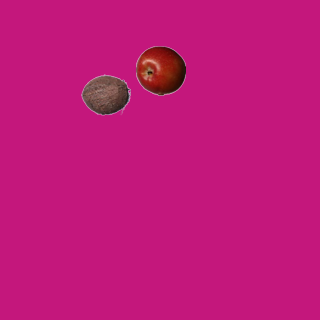Apple Braeburn: (135, 45, 185, 95)
Cocos: (80, 69, 130, 119)
